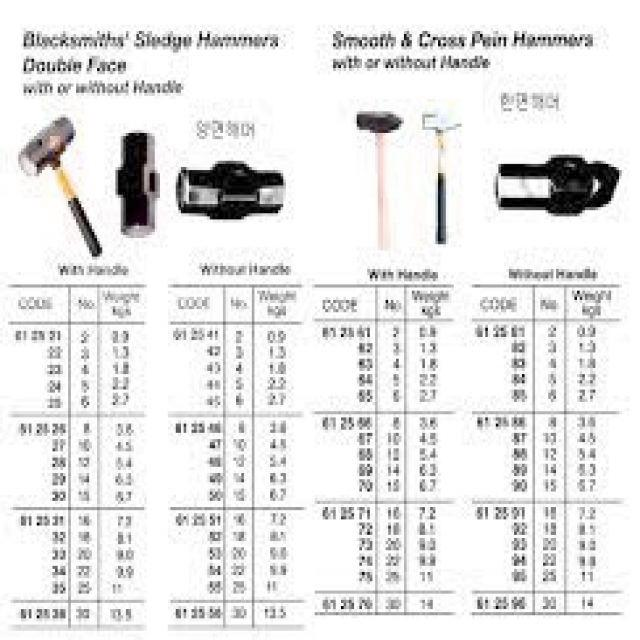hammer: (11, 106, 110, 268), (346, 91, 407, 255), (416, 92, 468, 254)
